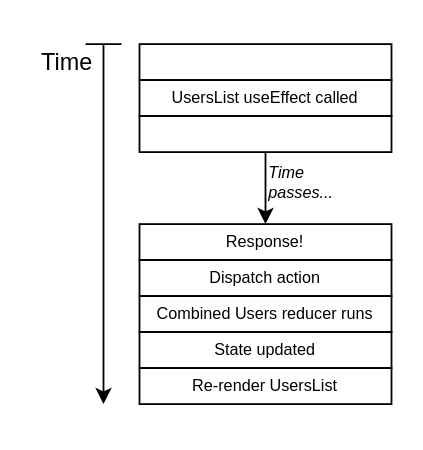
This 423x450 diagram has some shape labels left out. The shapes that lost their labels are listed below. From the top down, each one's box as (x1, y1, x2, y2) in pixels, then its label:
(138, 42, 392, 80): UsersList rendered
(138, 114, 392, 152): We make request
